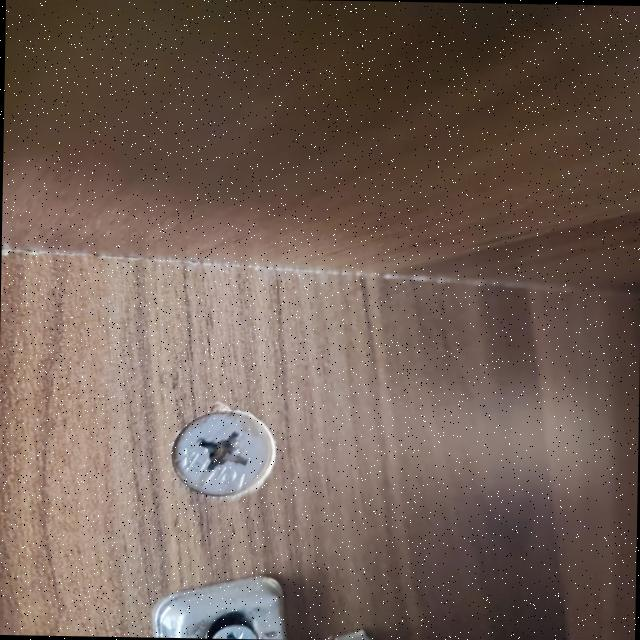Phillips: (168, 400, 298, 500)
